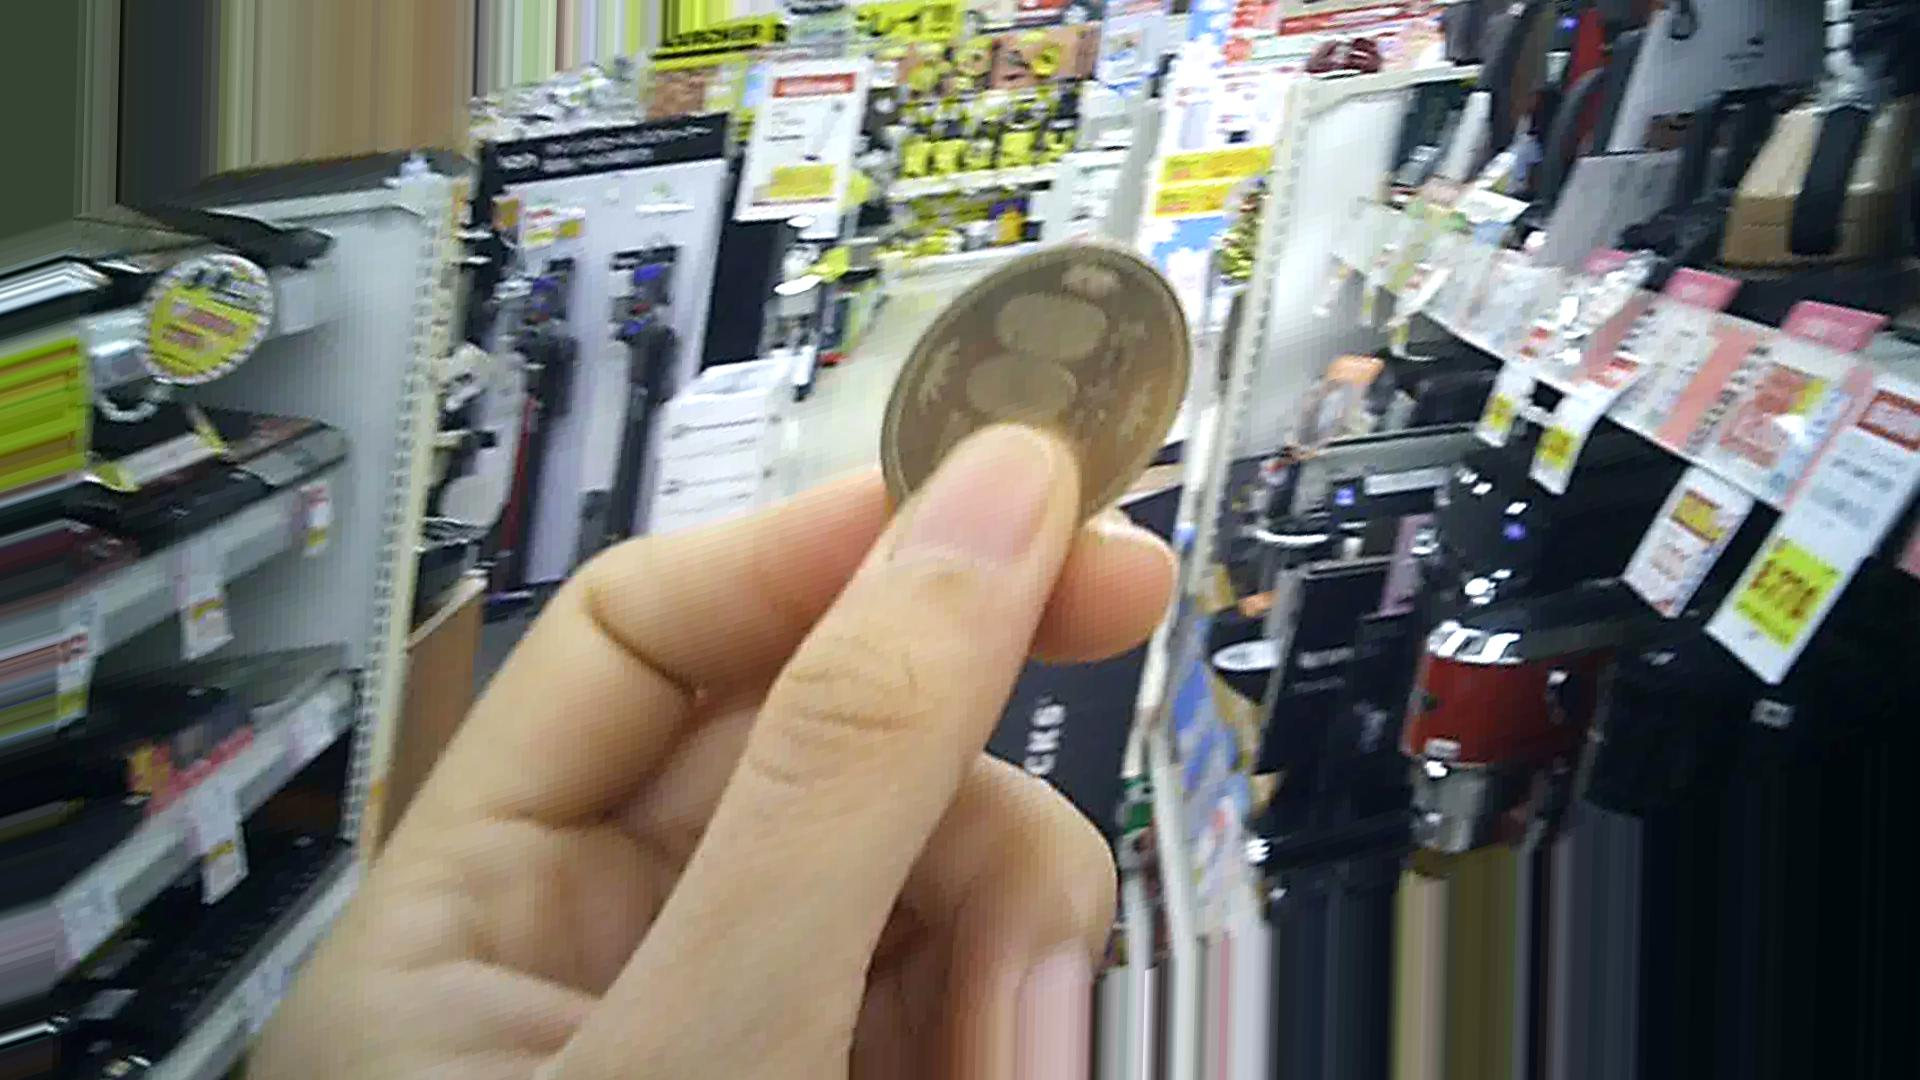500 Yen: (873, 253, 1179, 525)
